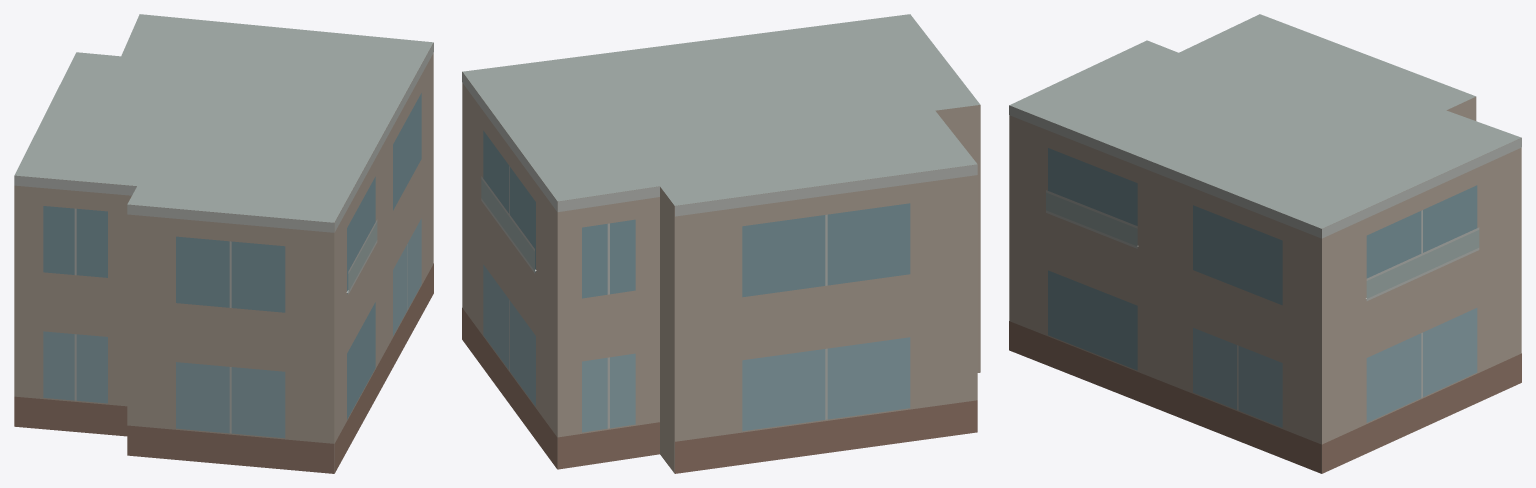
The model's file is survey-upis-32714211.glb.
3 renders of one model, left to right at view 1: azimuth 30°, elevation 25°; view 2: azimuth 150°, elevation 25°; view 3: azimuth 270°, elevation 25°, orthographic. The views are drawn at different scales.
Parts seen in each view (by area): view 1: survey-upis-32714211.tmp; view 2: survey-upis-32714211.tmp; view 3: survey-upis-32714211.tmp.
Boxes of the visible parts, bbox=[...] form: survey-upis-32714211.tmp: bbox=[14, 14, 433, 473]; survey-upis-32714211.tmp: bbox=[462, 14, 980, 473]; survey-upis-32714211.tmp: bbox=[1009, 14, 1521, 473].
Size of the model in its own units: 11.48 by 6.1 by 11.57.
